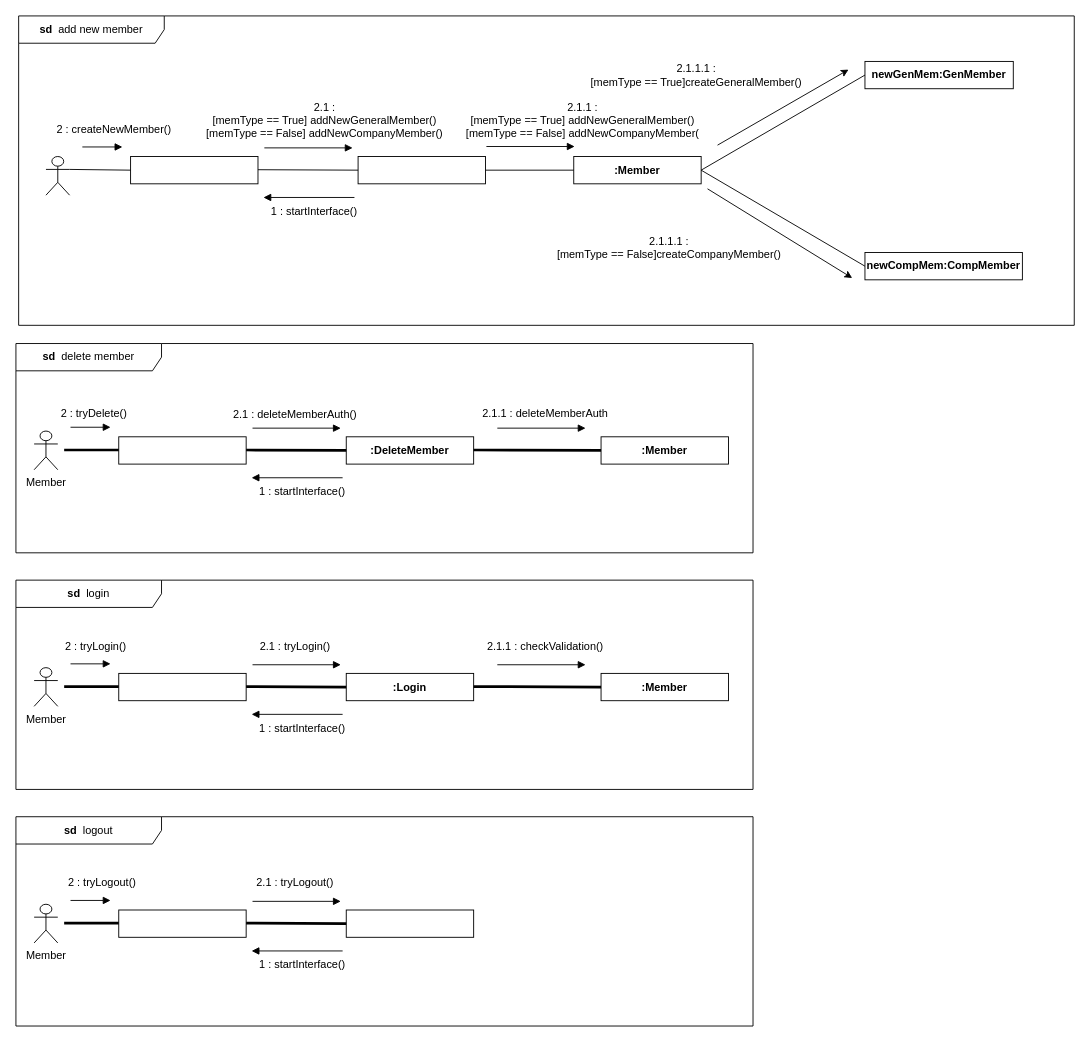
The diagram is 1090 pixels wide and 1042 high, and some of its shapes have lost their labels. The shapes that lost their labels are listed below. From the top down, each one's centre as x and y in pixels, then its label:
At (57,175): "Guest".
At (194,170): ":AddMemberUI".
At (421,170): ":AddMember".
At (182,450): ": DeleteMemberUI".
At (182,686): ":LoginUI".
At (182,923): ":LogoutUI".
At (409,923): ":Logout".
